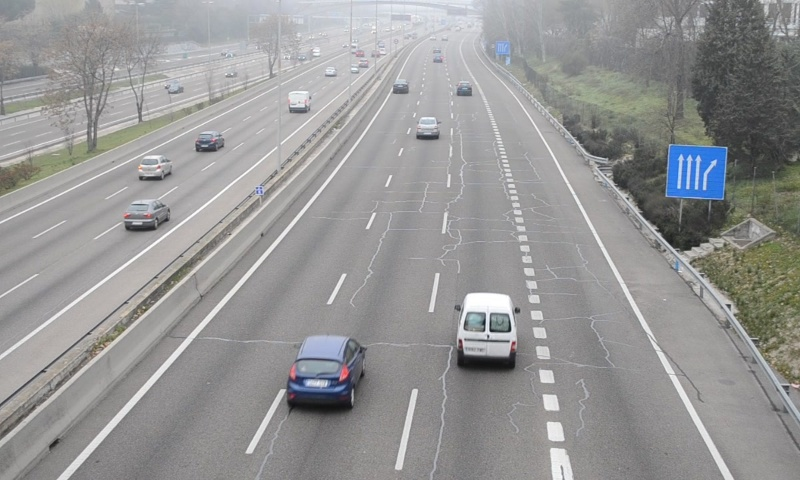car: (286, 335, 366, 408), (416, 116, 440, 137), (392, 78, 409, 94), (456, 80, 472, 96)
van: (456, 292, 518, 368)
